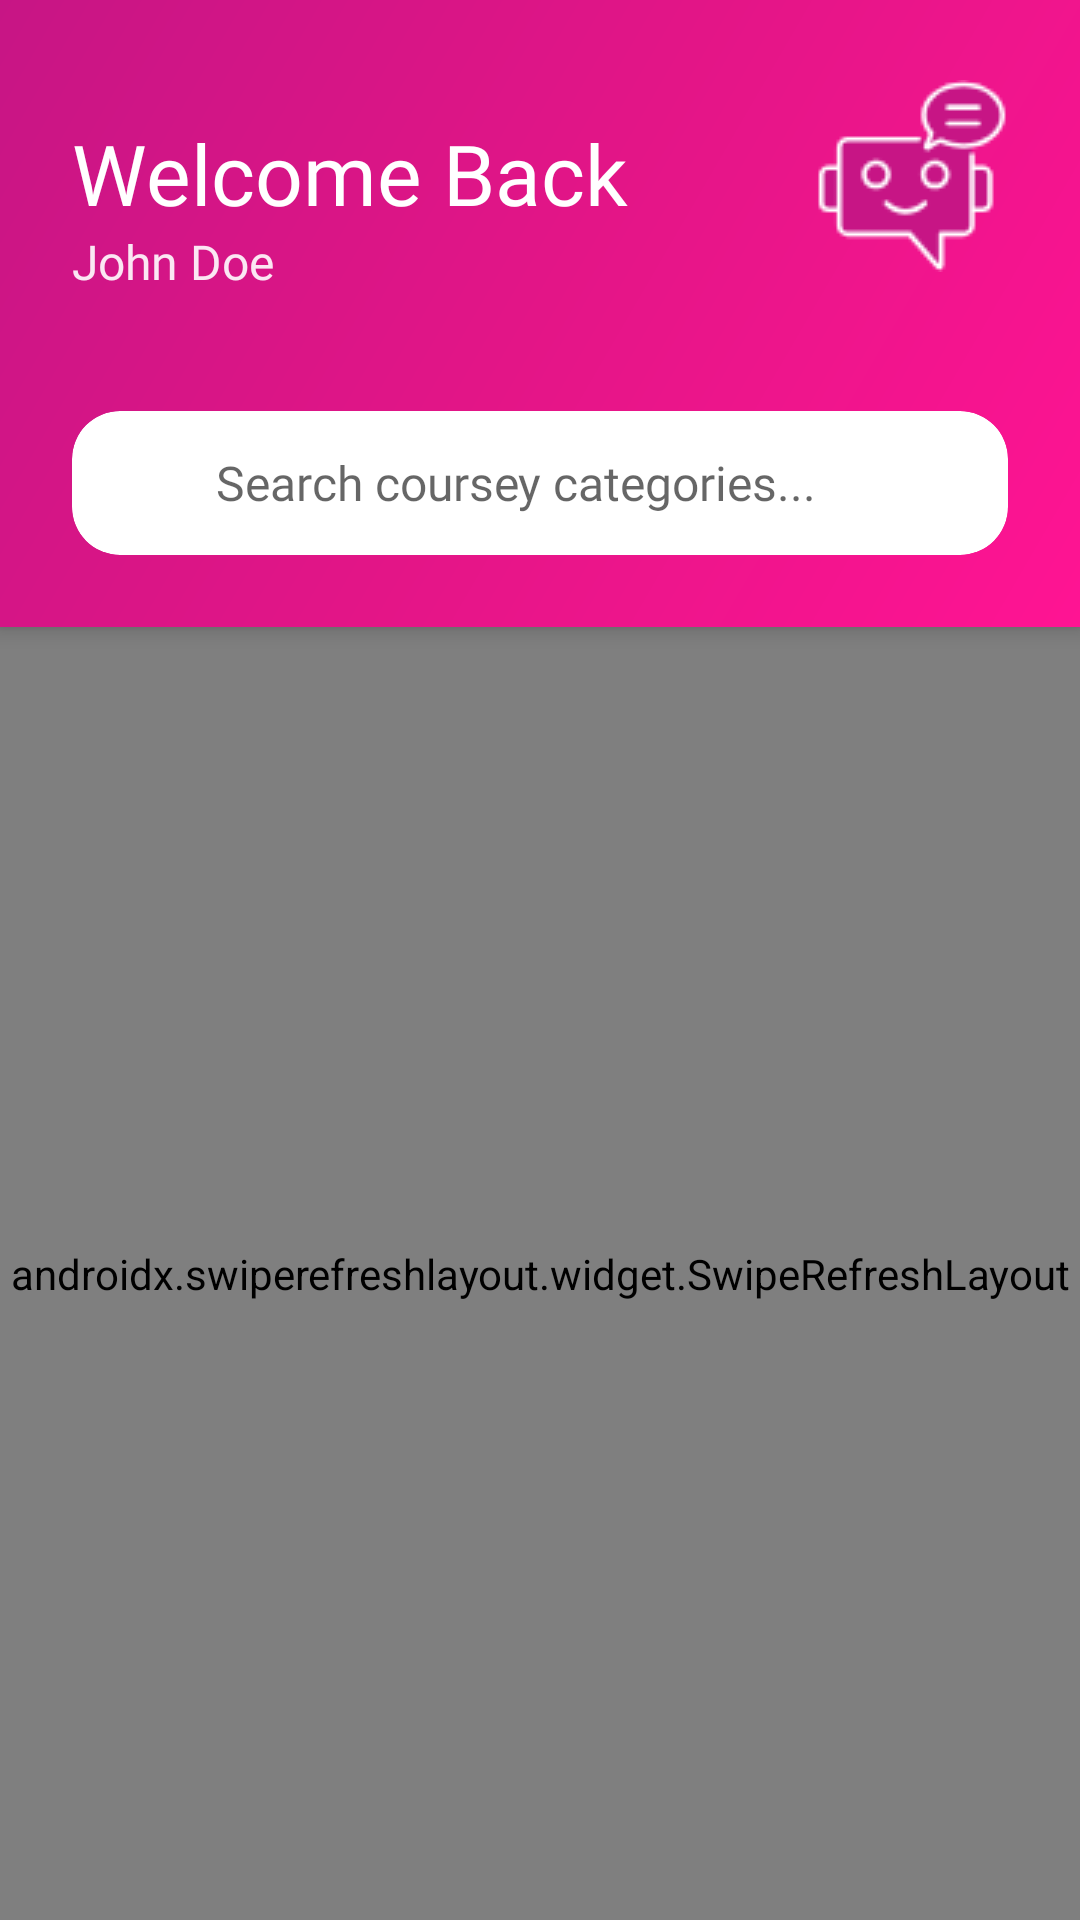

Locate icon controls on the screen. Image size 1080px x 1920px, boxes as (x1, y1, x2, y2).
Chat: (818, 80, 1006, 272)
